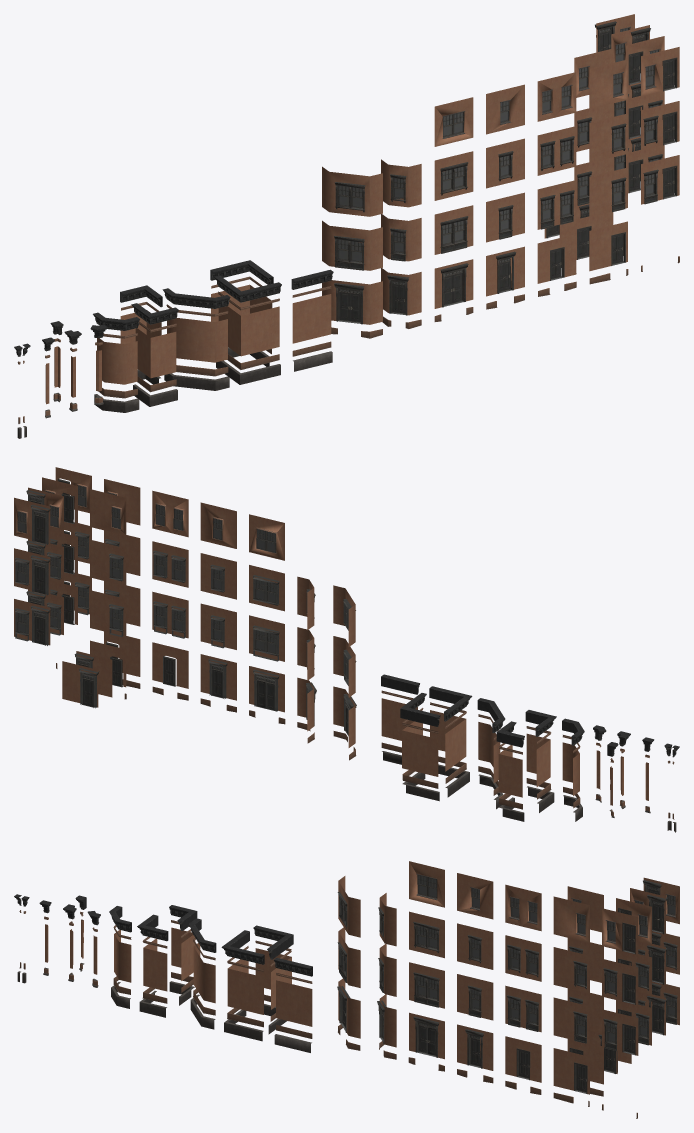
File: modular_urban_apartments_facade.glb
The picture shows the model from 3 angles, top to bottom: view 1: azimuth 30°, elevation 25°; view 2: azimuth 150°, elevation 25°; view 3: azimuth 330°, elevation 25°; orthographic projection. The views are drawn at different scales.
Parts seen in each view (by area): view 1: wall_door_centered_large_01, door_angled_small_01, door_window_small_09, crown_standard_angled_large_01; view 2: wall_door_centered_large_01, door_angled_small_01, door_window_small_09, crown_standard_angled_large_01; view 3: wall_door_centered_large_01, door_angled_small_01, door_window_small_09, crown_standard_angled_large_01.
Part boxes in pixels (<box>): wall_door_centered_large_01: <box>45,14,679,404</box>; door_angled_small_01: <box>334,21,677,324</box>; door_window_small_09: <box>17,26,679,438</box>; crown_standard_angled_large_01: <box>14,260,333,356</box>; wall_door_centered_large_01: <box>14,467,648,805</box>; door_angled_small_01: <box>15,478,356,735</box>; door_window_small_09: <box>17,484,676,832</box>; crown_standard_angled_large_01: <box>381,674,679,757</box>; wall_door_centered_large_01: <box>45,861,679,1094</box>; door_angled_small_01: <box>337,875,677,1093</box>; door_window_small_09: <box>17,874,675,1118</box>; crown_standard_angled_large_01: <box>14,894,312,976</box>.
Size of the model in its own units: 51.53 by 17 by 6.66.
5 materials, 5 textured.
